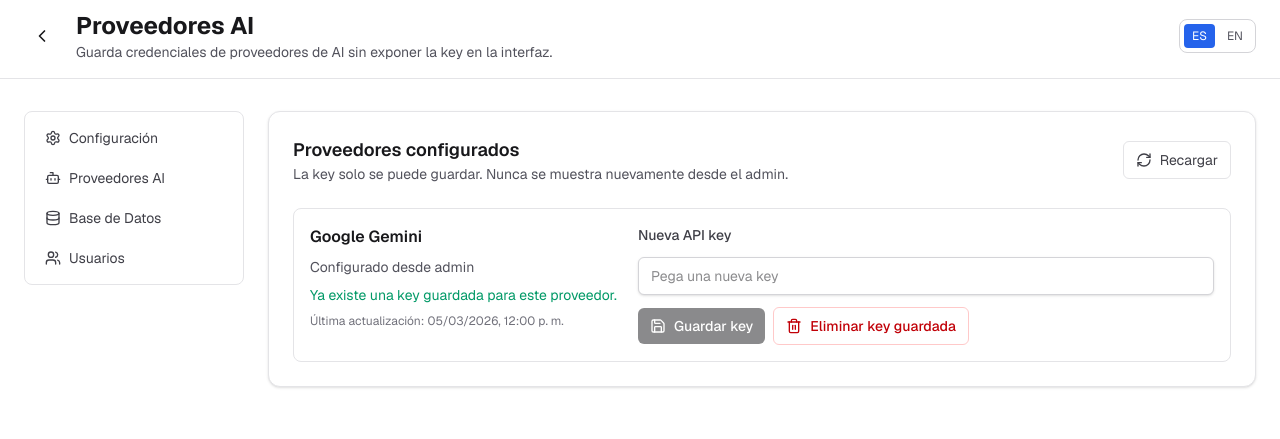
AdminAiProvidersPage › deletes a saved provider key without ever showing the stored value
Step 1. Click the button with test id "delete-provider-gemini" → (871, 326), box [773,307,969,345]
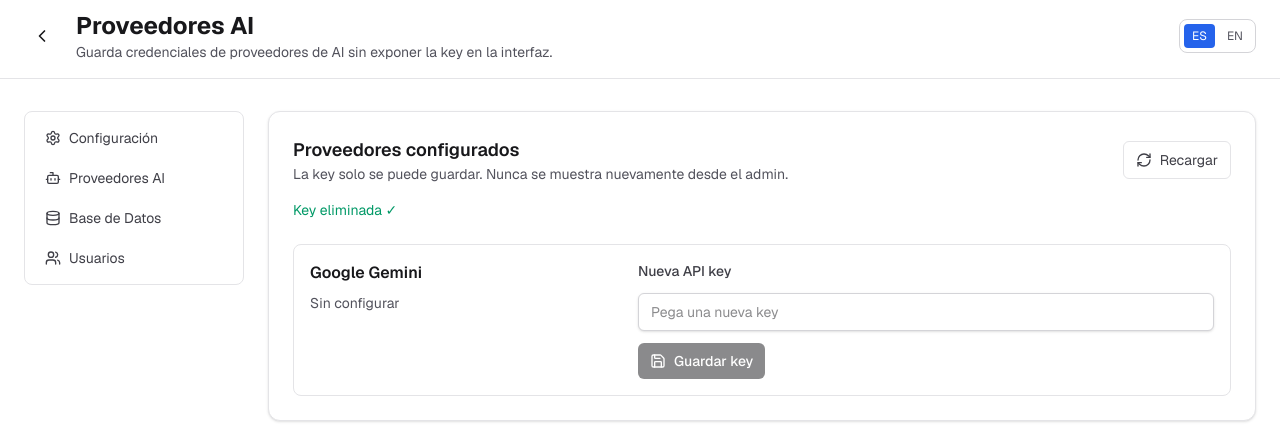
Expected: the text "Key eliminada ✓" is shown, [293,201,397,219]
Expected: the text "Ya existe una key guardada" is gone
